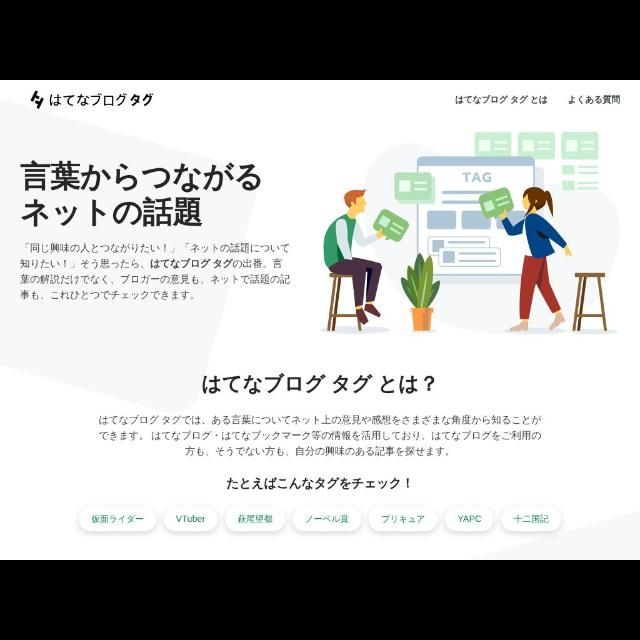image: (322, 132, 616, 332), (30, 90, 44, 108)
text: (99, 415, 543, 457), (19, 242, 290, 302), (18, 162, 262, 228), (201, 374, 435, 394), (226, 478, 412, 490), (48, 94, 154, 108), (456, 95, 548, 106), (568, 95, 620, 105), (92, 513, 144, 523), (382, 514, 424, 524), (236, 514, 274, 524), (514, 514, 548, 524), (307, 515, 349, 523), (174, 515, 206, 523), (458, 514, 482, 524)
textbutton: (77, 508, 156, 530), (369, 510, 438, 532), (226, 508, 286, 532), (293, 511, 362, 531), (501, 510, 562, 530), (166, 510, 218, 530), (446, 511, 494, 532)
